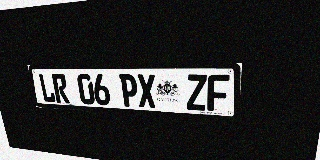0: (76, 74, 95, 105)
6: (92, 74, 111, 106)
F: (207, 74, 230, 112)
L: (38, 74, 56, 103)
P: (119, 74, 139, 107)
R: (51, 74, 70, 103)
X: (137, 74, 156, 108)
Z: (186, 74, 207, 111)
